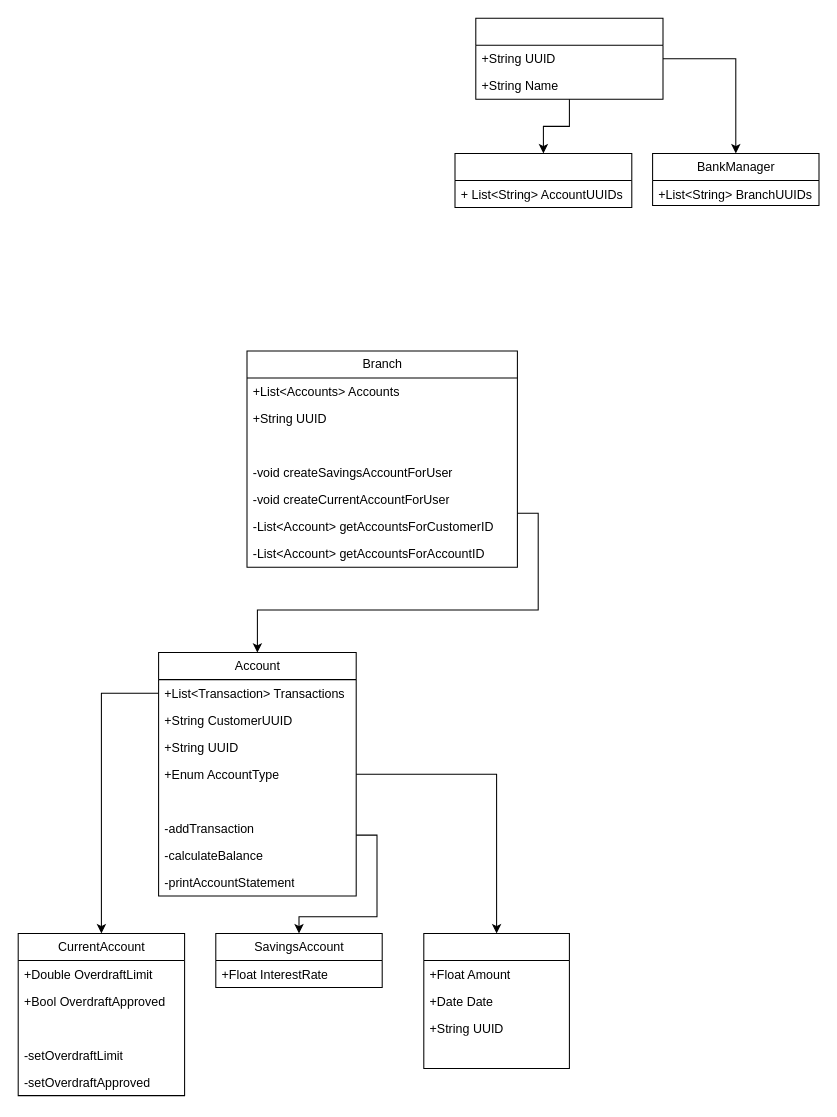
Some shapes in this 837 by 1117 pixel diagram are drawn without their labels. Each missing label, with the box of its shape:
Customer: (454, 152, 632, 207)
Transaction: (423, 932, 569, 1069)
User: (475, 17, 663, 99)
